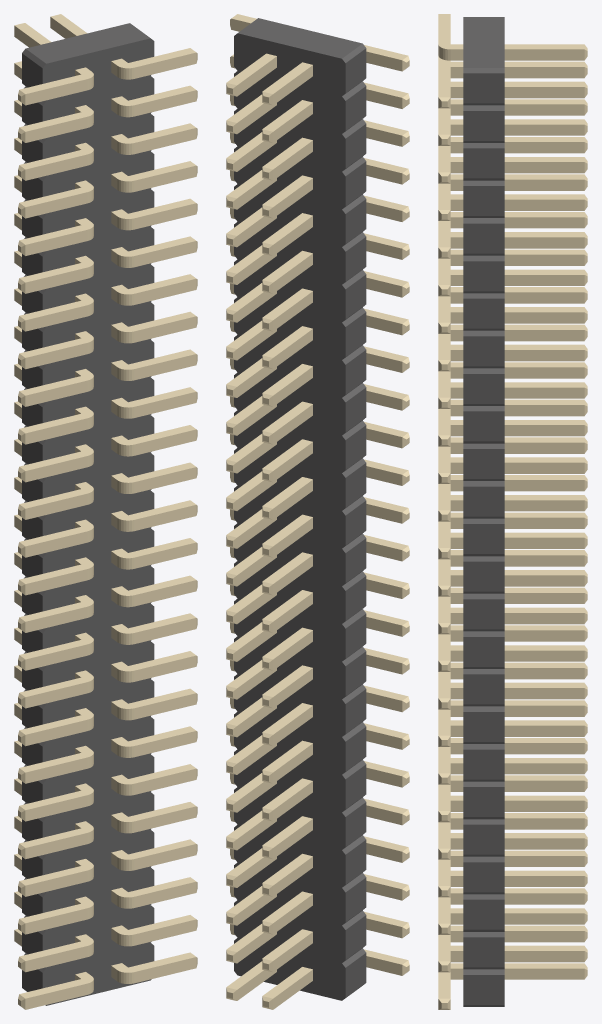
Rendered from PinHeader_2x25_P1.00mm_Vertical_SMD.glb.
3 views of the same model, side by side, from view 1: azimuth 30°, elevation 25°; view 2: azimuth 150°, elevation 25°; view 3: azimuth 270°, elevation 25° (orthographic).
Parts seen in each view (by area): view 1: Shape_IndexedFaceSet.003, Shape_IndexedFaceSet.001, Shape_IndexedFaceSet.607, Shape_IndexedFaceSet.677, Shape_IndexedFaceSet.622, Shape_IndexedFaceSet.682, Shape_IndexedFaceSet.627, Shape_IndexedFaceSet.707, Shape_IndexedFaceSet.757, Shape_IndexedFaceSet.567, Shape_IndexedFaceSet.572, Shape_IndexedFaceSet.582 (+91 smaller); view 2: Shape_IndexedFaceSet.004, Shape_IndexedFaceSet.001, Shape_IndexedFaceSet.055, Shape_IndexedFaceSet.073, Shape_IndexedFaceSet.151, Shape_IndexedFaceSet.043, Shape_IndexedFaceSet.049, Shape_IndexedFaceSet.067, Shape_IndexedFaceSet.085, Shape_IndexedFaceSet.121, Shape_IndexedFaceSet.145, Shape_IndexedFaceSet.007 (+92 smaller); view 3: Shape_IndexedFaceSet.001, Shape_IndexedFaceSet.002, Shape_IndexedFaceSet.016, Shape_IndexedFaceSet.028, Shape_IndexedFaceSet.034, Shape_IndexedFaceSet.040, Shape_IndexedFaceSet.046, Shape_IndexedFaceSet.058, Shape_IndexedFaceSet.070, Shape_IndexedFaceSet.082, Shape_IndexedFaceSet.088, Shape_IndexedFaceSet.100 (+140 smaller).
Part boxes in pixels (left/top/right/bottom): Shape_IndexedFaceSet.003: left=42, top=38, right=154, bottom=1005; Shape_IndexedFaceSet.001: left=26, top=23, right=150, bottom=63; Shape_IndexedFaceSet.607: left=134, top=693, right=196, bottom=719; Shape_IndexedFaceSet.677: left=25, top=343, right=87, bottom=369; Shape_IndexedFaceSet.622: left=25, top=719, right=87, bottom=746; Shape_IndexedFaceSet.682: left=134, top=316, right=196, bottom=342; Shape_IndexedFaceSet.627: left=134, top=768, right=196, bottom=794; Shape_IndexedFaceSet.707: left=25, top=418, right=87, bottom=444; Shape_IndexedFaceSet.757: left=25, top=267, right=87, bottom=293; Shape_IndexedFaceSet.567: left=134, top=580, right=196, bottom=606; Shape_IndexedFaceSet.572: left=25, top=569, right=87, bottom=595; Shape_IndexedFaceSet.582: left=134, top=542, right=196, bottom=568; Shape_IndexedFaceSet.004: left=234, top=33, right=345, bottom=1000; Shape_IndexedFaceSet.001: left=238, top=18, right=362, bottom=58; Shape_IndexedFaceSet.055: left=345, top=350, right=366, bottom=394; Shape_IndexedFaceSet.073: left=345, top=463, right=366, bottom=507; Shape_IndexedFaceSet.151: left=345, top=953, right=366, bottom=997; Shape_IndexedFaceSet.043: left=345, top=274, right=366, bottom=318; Shape_IndexedFaceSet.049: left=345, top=312, right=366, bottom=356; Shape_IndexedFaceSet.067: left=345, top=425, right=366, bottom=469; Shape_IndexedFaceSet.085: left=345, top=538, right=366, bottom=582; Shape_IndexedFaceSet.121: left=345, top=764, right=366, bottom=808; Shape_IndexedFaceSet.145: left=345, top=915, right=366, bottom=959; Shape_IndexedFaceSet.007: left=345, top=48, right=366, bottom=92; Shape_IndexedFaceSet.001: left=463, top=17, right=504, bottom=67; Shape_IndexedFaceSet.002: left=463, top=73, right=504, bottom=103; Shape_IndexedFaceSet.016: left=463, top=148, right=504, bottom=178; Shape_IndexedFaceSet.028: left=463, top=223, right=504, bottom=253; Shape_IndexedFaceSet.034: left=463, top=261, right=504, bottom=291; Shape_IndexedFaceSet.040: left=463, top=298, right=504, bottom=328; Shape_IndexedFaceSet.046: left=463, top=336, right=504, bottom=366; Shape_IndexedFaceSet.058: left=463, top=411, right=504, bottom=441; Shape_IndexedFaceSet.070: left=463, top=486, right=504, bottom=516; Shape_IndexedFaceSet.082: left=463, top=561, right=504, bottom=591; Shape_IndexedFaceSet.088: left=463, top=599, right=504, bottom=629; Shape_IndexedFaceSet.100: left=463, top=674, right=504, bottom=704.
Bounding box in the file's own units: 1.93 × 9.84 × 1.42.
